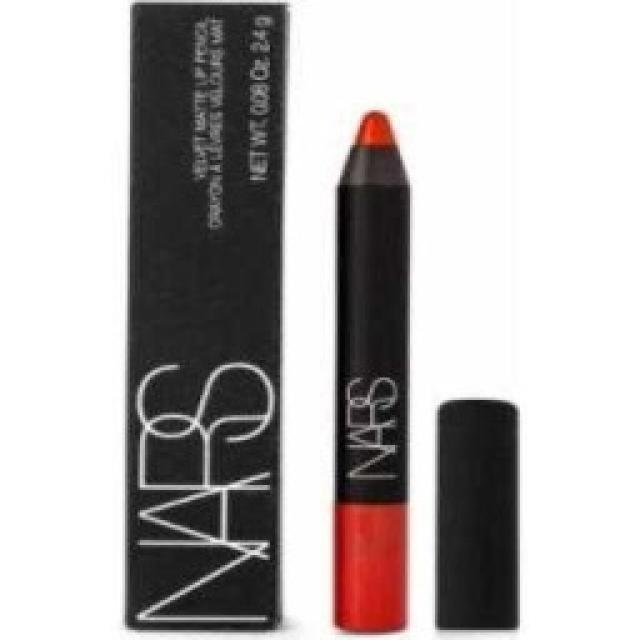pencil: (120, 0, 290, 630)
